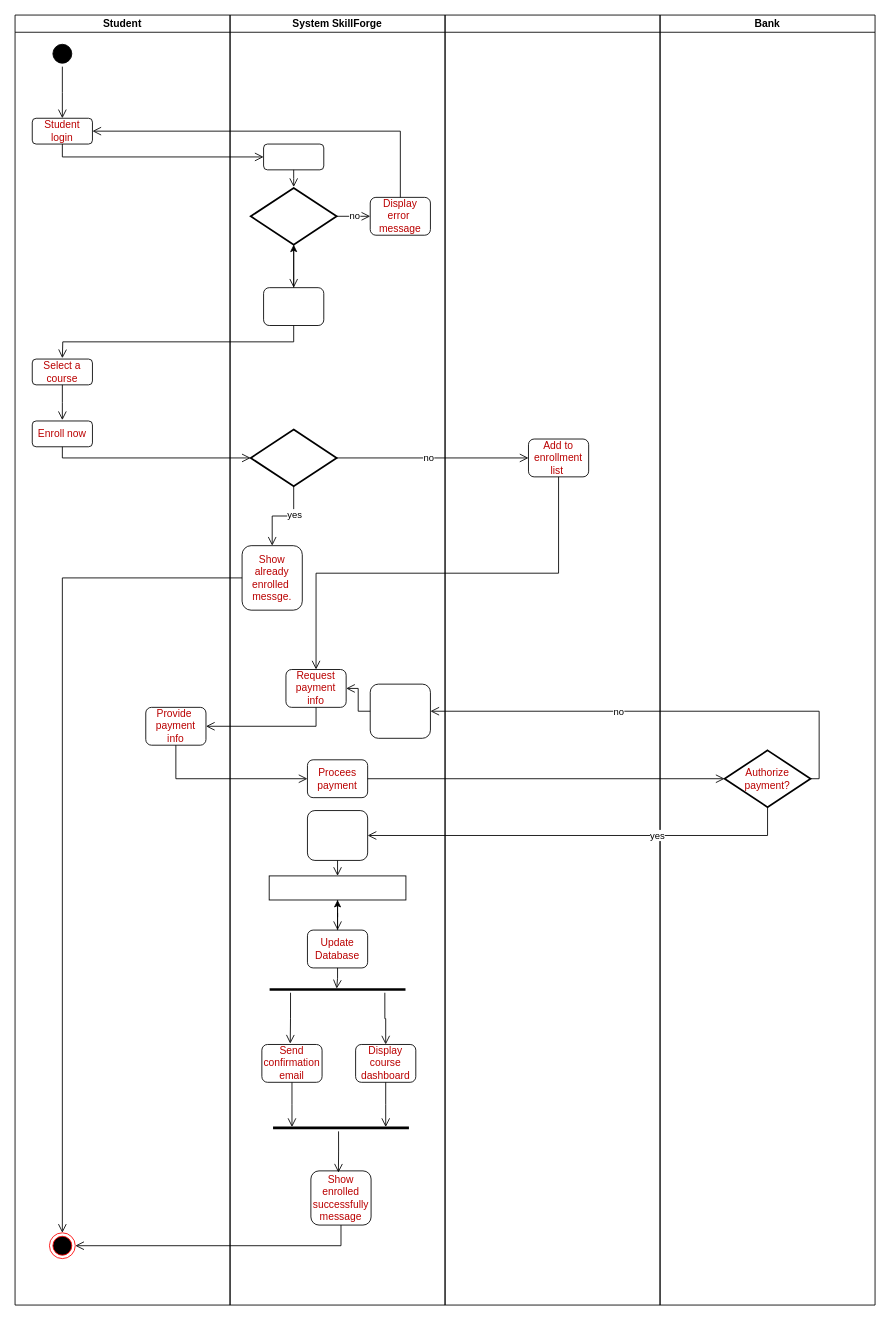
Image size: 890x1320. Some labels were removed from this diagram. Here are the shapes that lost their labels. From the top down, the box of each, then its label:
(263, 143, 324, 170): Verify Login
(249, 187, 337, 245): Login success?
(263, 287, 324, 326): Display available courses
(249, 428, 337, 487): Already enrolled?
(444, 14, 660, 1305): Course Service
(369, 683, 430, 738): Show payment failed message
(307, 810, 368, 860): Show Payment successful message
(268, 875, 406, 900): JsonDatabaseManager
